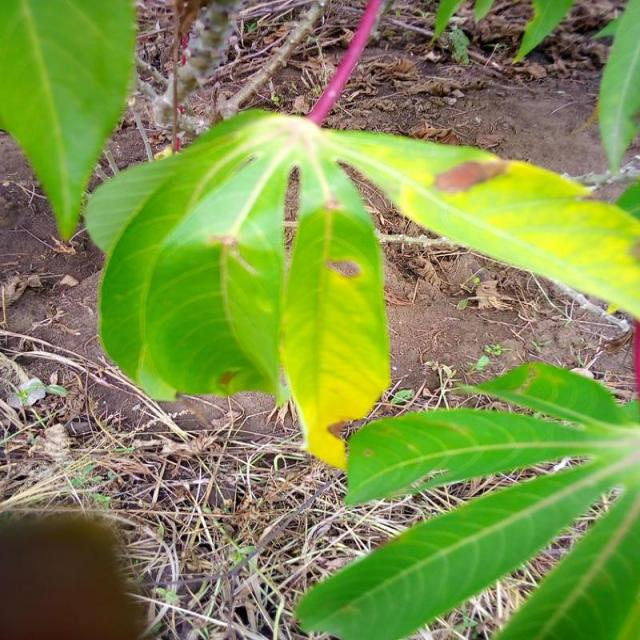cassava leaf: (84, 107, 638, 469), (294, 358, 638, 638), (0, 0, 138, 242)
